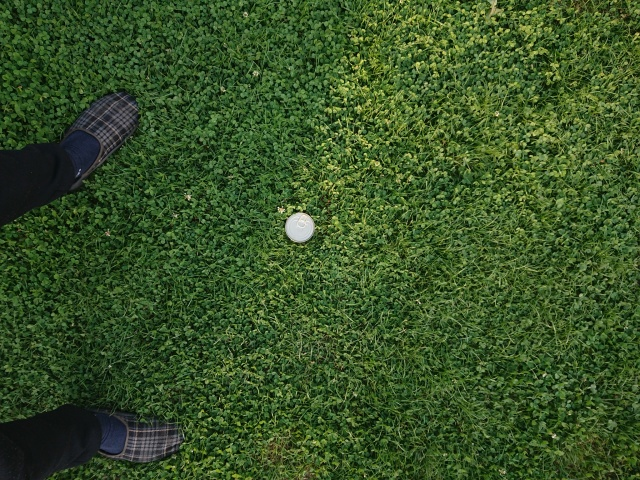Gavrilovic Pork Liver Pate 100g: (283, 210, 315, 243)
